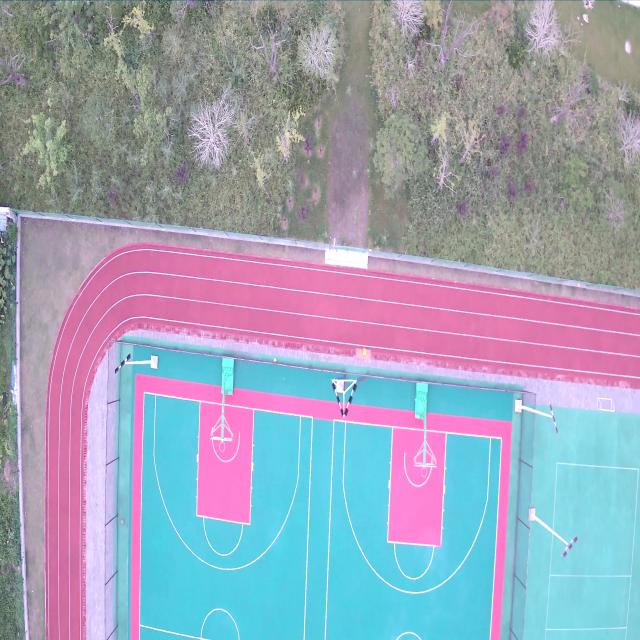UAV: (329, 236, 338, 250)
